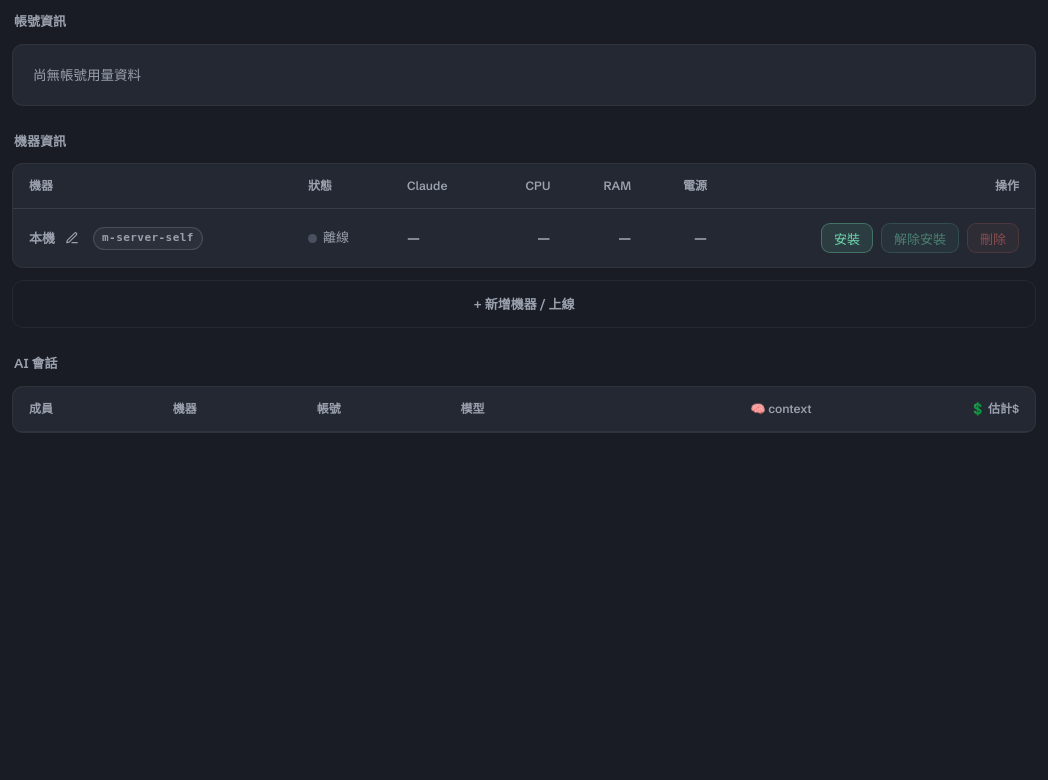
Scenario: MonitorPage bootstrap-on-server log retention › keeps and shows the log of a SUCCESSFUL install
The image size is (1048, 780).
Click the button with test id "mon-install-btn". click: (847,238)
box: [821,223,873,253]
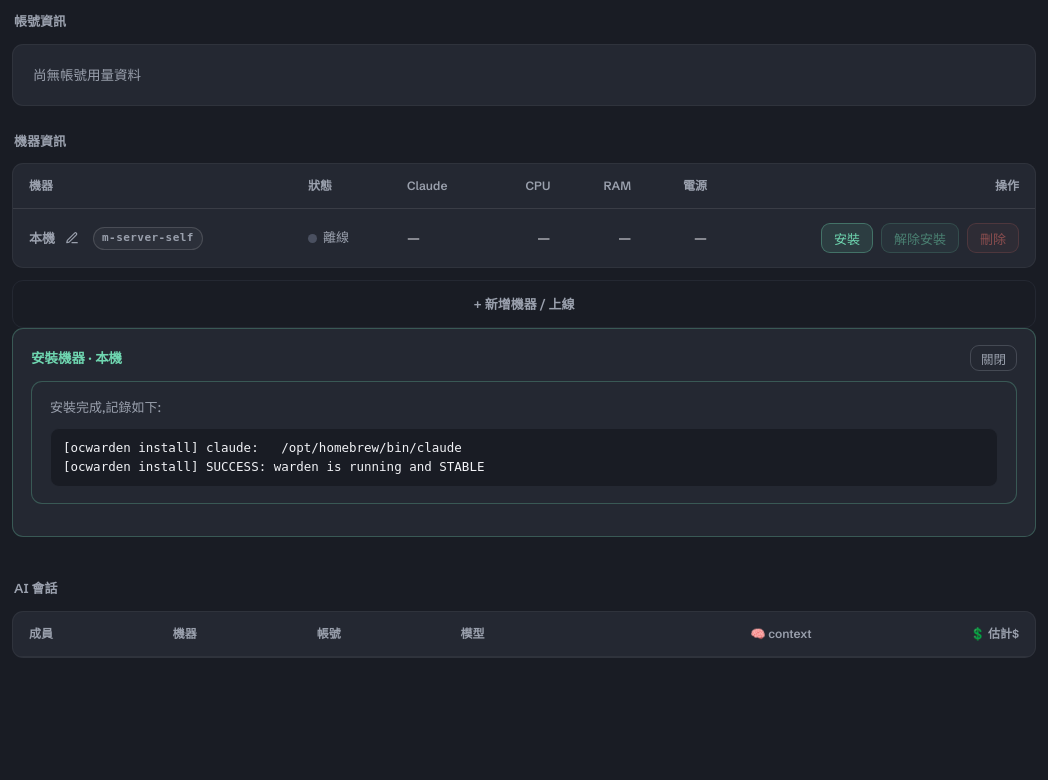
Now the text with test id "mon-bootstrap-log" shows "SUCCESS: warden is running and STABLE", box [63,440,484,474]
Now the element with test id "mon-bootstrap-result-block" shows "安裝完成", box [50,399,161,415]
